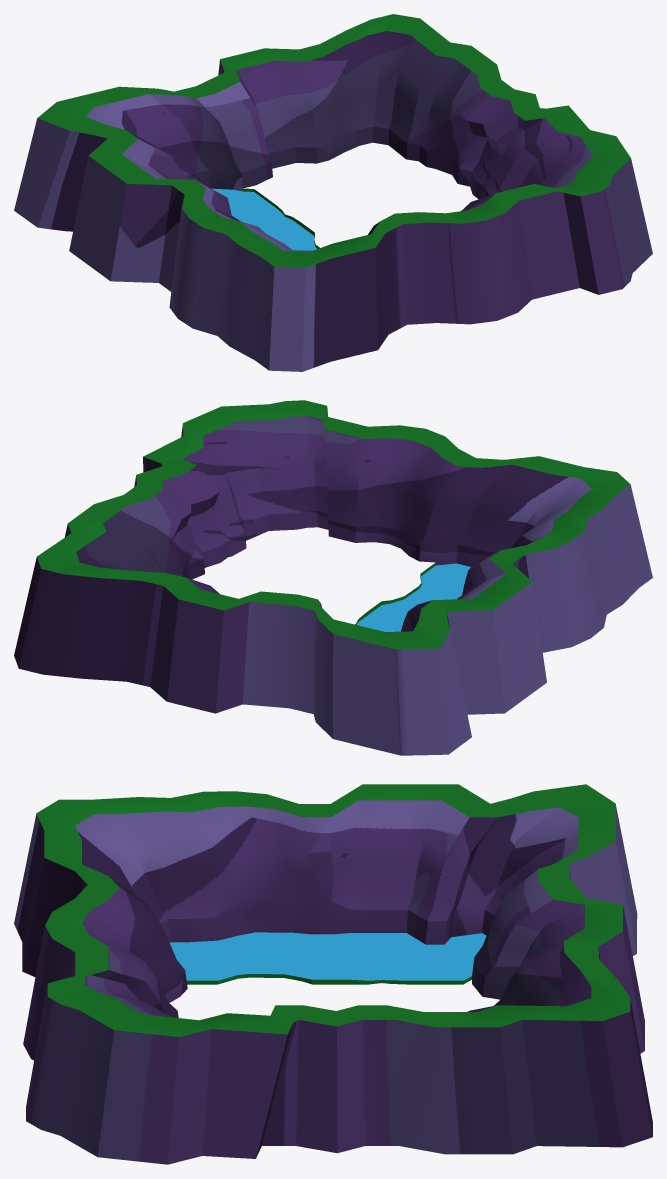
The model's file is Mapa Rio Batalla Pared.fbx.
3 views of the same model, one above another, from view 1: azimuth 30°, elevation 25°; view 2: azimuth 150°, elevation 25°; view 3: azimuth 270°, elevation 25° (orthographic). The views are drawn at different scales.
Visible parts, largest first — view 1: RioBatallaPared; view 2: RioBatallaPared; view 3: RioBatallaPared.
Part boxes in pixels (x1,y1,x2,y2): RioBatallaPared: (14, 14, 652, 371); RioBatallaPared: (14, 400, 652, 755); RioBatallaPared: (14, 784, 652, 1164).
Bounding box in the file's own units: 63955 × 63464 × 12899.
Materials: 3 (1 with a texture image).
